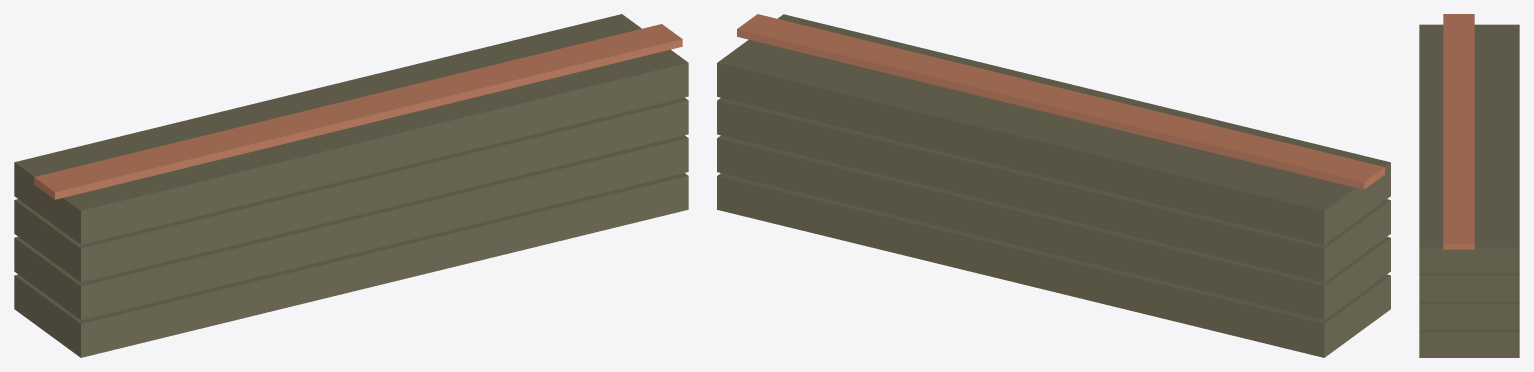
File: SM_PretilTramo_v3_Tablon_e0_Sano_LOD1.fbx
3 renders of one model, left to right at view 1: azimuth 30°, elevation 25°; view 2: azimuth 150°, elevation 25°; view 3: azimuth 270°, elevation 25°, orthographic. The views are drawn at different scales.
Visible parts, largest first — view 1: SM_pretil_azotea_v12_LOD1; view 2: SM_pretil_azotea_v12_LOD1; view 3: SM_pretil_azotea_v12_LOD1.
Part boxes in pixels (bbox=[...]): SM_pretil_azotea_v12_LOD1: bbox=[14, 14, 688, 357]; SM_pretil_azotea_v12_LOD1: bbox=[717, 14, 1390, 357]; SM_pretil_azotea_v12_LOD1: bbox=[1419, 14, 1519, 357].
Bounding box in the file's own units: 5.23 × 1.24 × 0.96.
